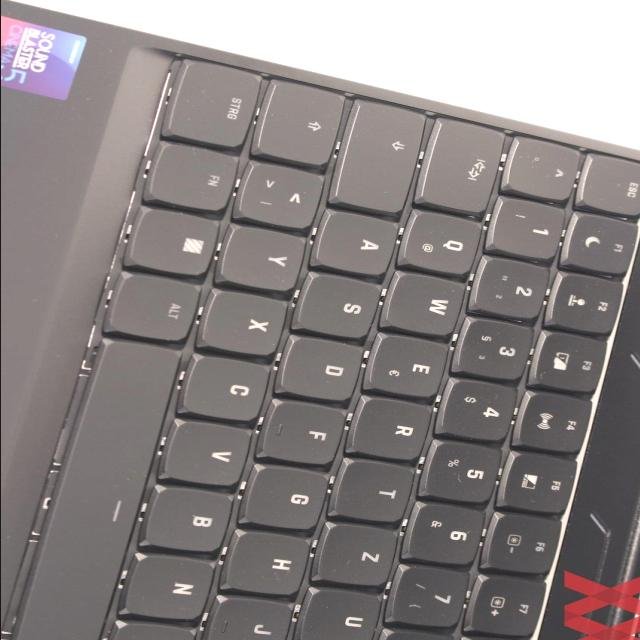1: (492, 195, 570, 260)
2: (475, 254, 555, 320)
3: (458, 315, 538, 380)
4: (441, 377, 521, 441)
5: (425, 439, 505, 503)
6: (406, 500, 488, 566)
7: (391, 563, 471, 628)
8: (379, 629, 459, 640)
a: (317, 207, 402, 275)
alt-left: (111, 272, 203, 342)
b: (147, 483, 239, 553)
c: (184, 353, 276, 421)
caret: (507, 133, 586, 201)
d: (281, 333, 367, 402)
e: (369, 332, 453, 398)
f: (262, 397, 348, 465)
g: (246, 462, 332, 530)
h: (227, 528, 315, 595)
j: (207, 594, 297, 640)
keyboard: (0, 44, 640, 640)
less: (239, 158, 329, 229)
m: (107, 622, 203, 640)
n: (127, 552, 221, 620)
q: (402, 207, 487, 275)
r: (352, 394, 437, 460)
s: (298, 270, 383, 338)
shift-left: (257, 75, 349, 169)
shift-lock: (336, 94, 430, 215)
space: (8, 337, 191, 640)
strg-left: (168, 55, 266, 149)
t: (336, 457, 420, 522)
tab: (421, 113, 507, 215)
u: (301, 585, 387, 640)
v: (164, 417, 258, 486)
w: (387, 269, 472, 335)
x: (203, 286, 293, 356)
y: (221, 222, 311, 291)
z: (318, 520, 402, 586)
